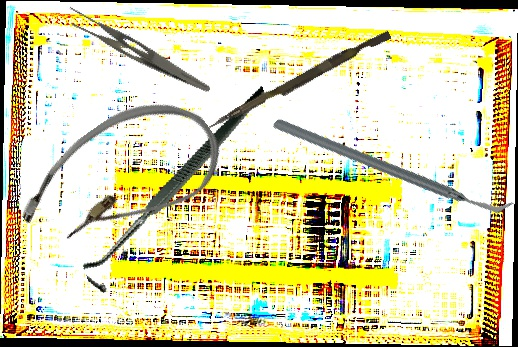Cannula: (4, 74, 237, 284)
Chopper: (271, 43, 516, 288)
Dressing Forceps: (60, 4, 219, 94)
Hook Surgical: (46, 84, 310, 299)
Pusher: (207, 25, 392, 137)
